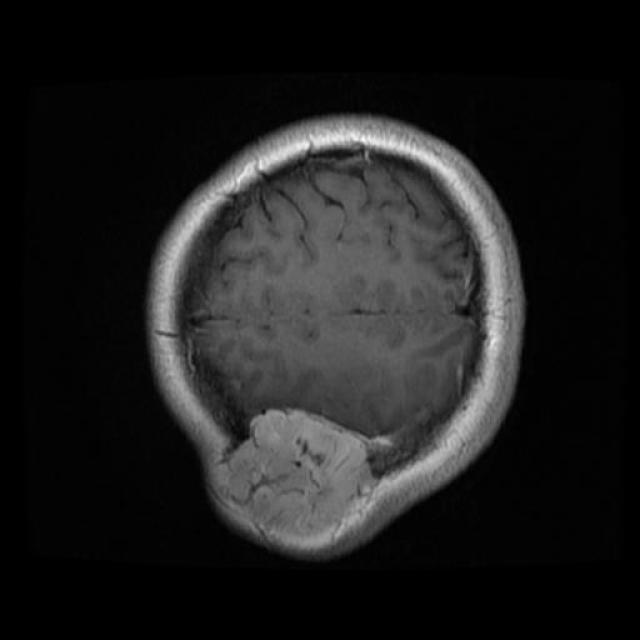Meningioma: (218, 409, 388, 551)
